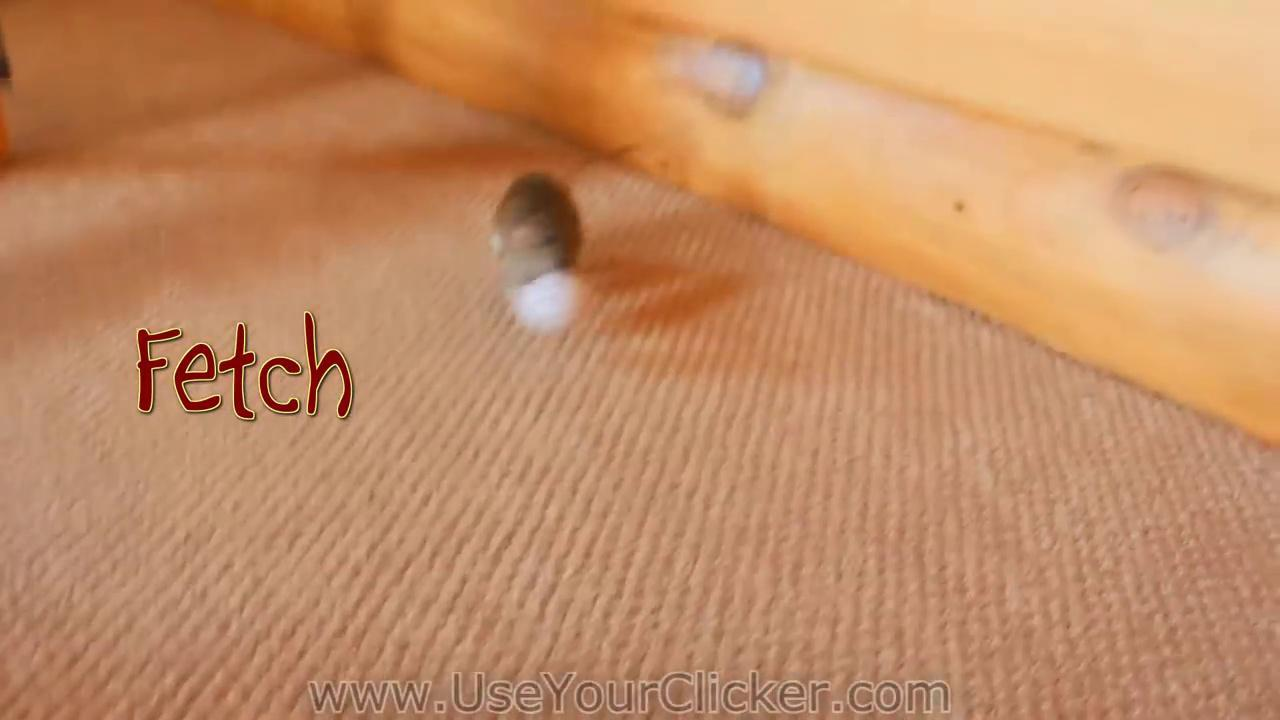rat: (491, 168, 583, 290)
